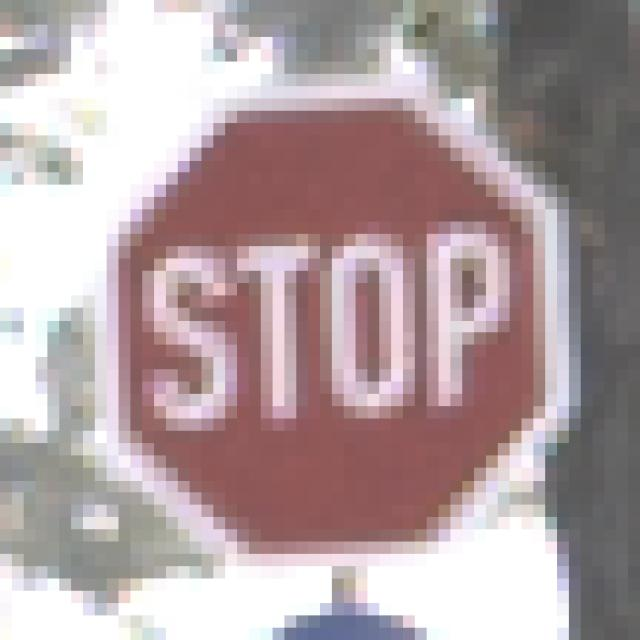STOP: (72, 63, 582, 580)
